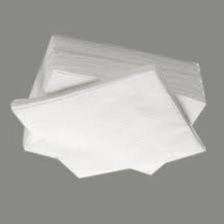tissue: (4, 29, 213, 188)
